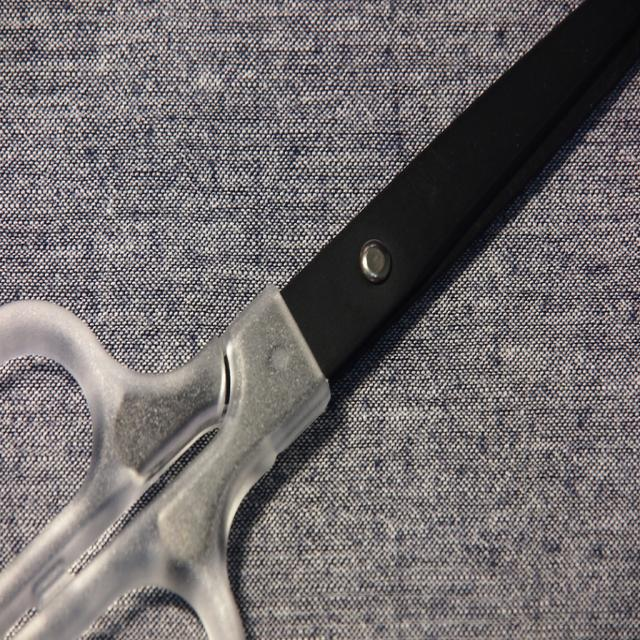scissors: (1, 0, 638, 638)
